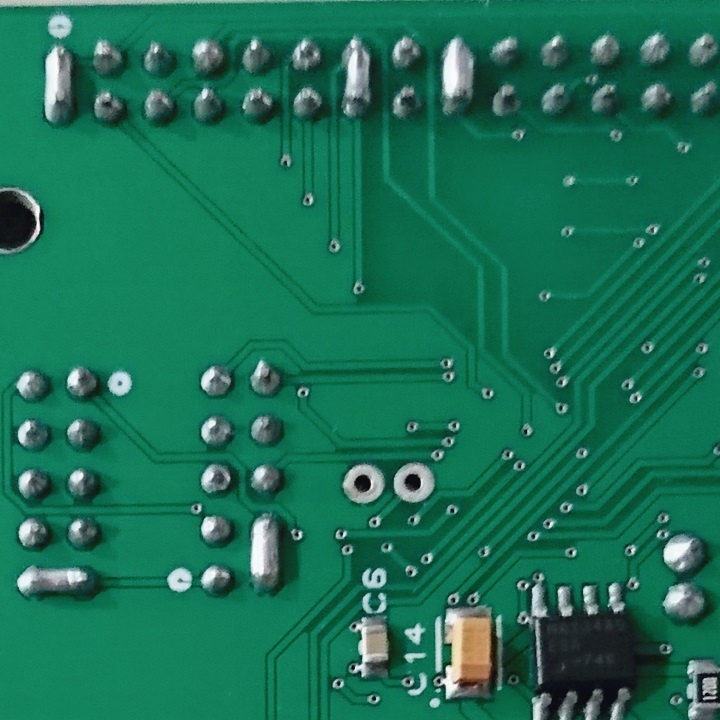F: (392, 454, 436, 508), (338, 458, 388, 502)
P: (10, 560, 98, 606), (438, 29, 477, 124), (246, 509, 287, 599), (339, 31, 375, 122), (40, 42, 76, 128)
